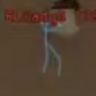hacks_2: (5, 8, 96, 76)
